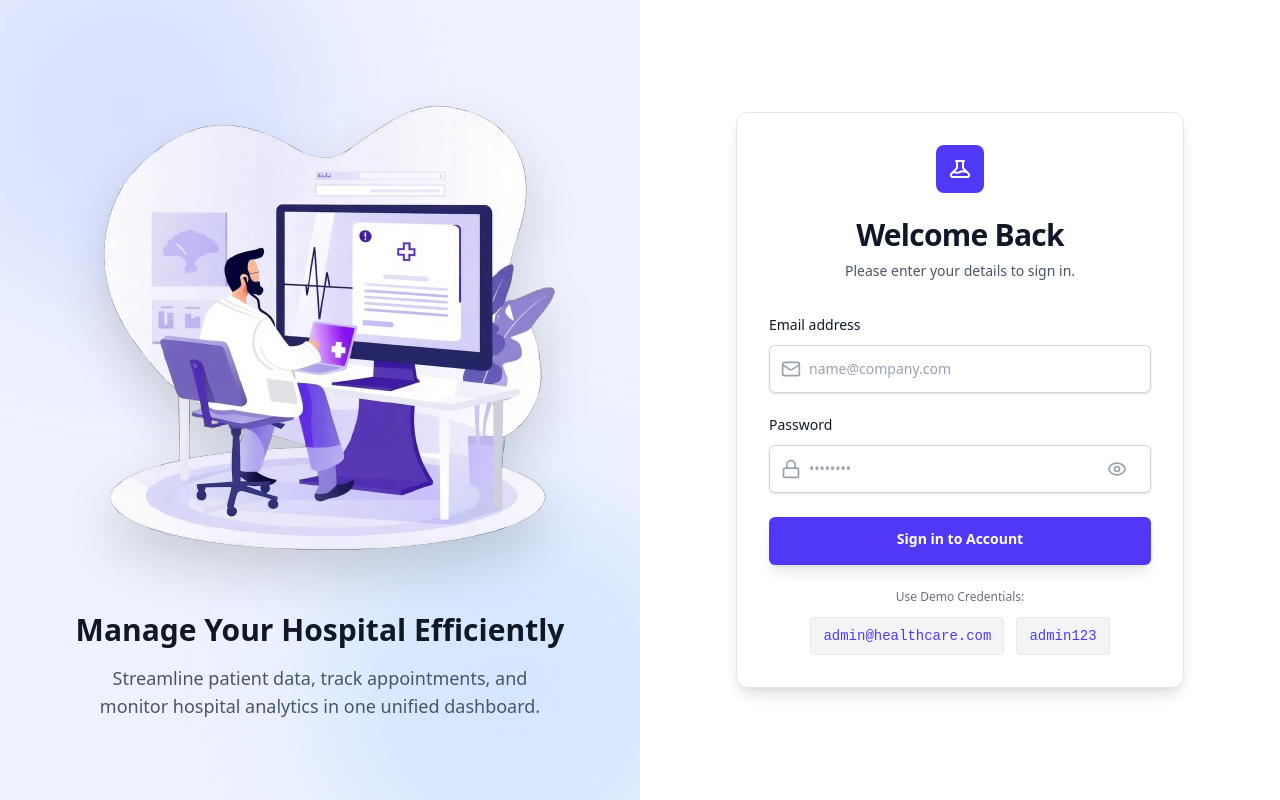
Test case: Login Page › Form Submission › prevents submission with invalid email
The width and height of the screenshot is (1280, 800).
In the field labelled "Email address": (960, 369) [769, 345, 1151, 393], type "invalid-email"
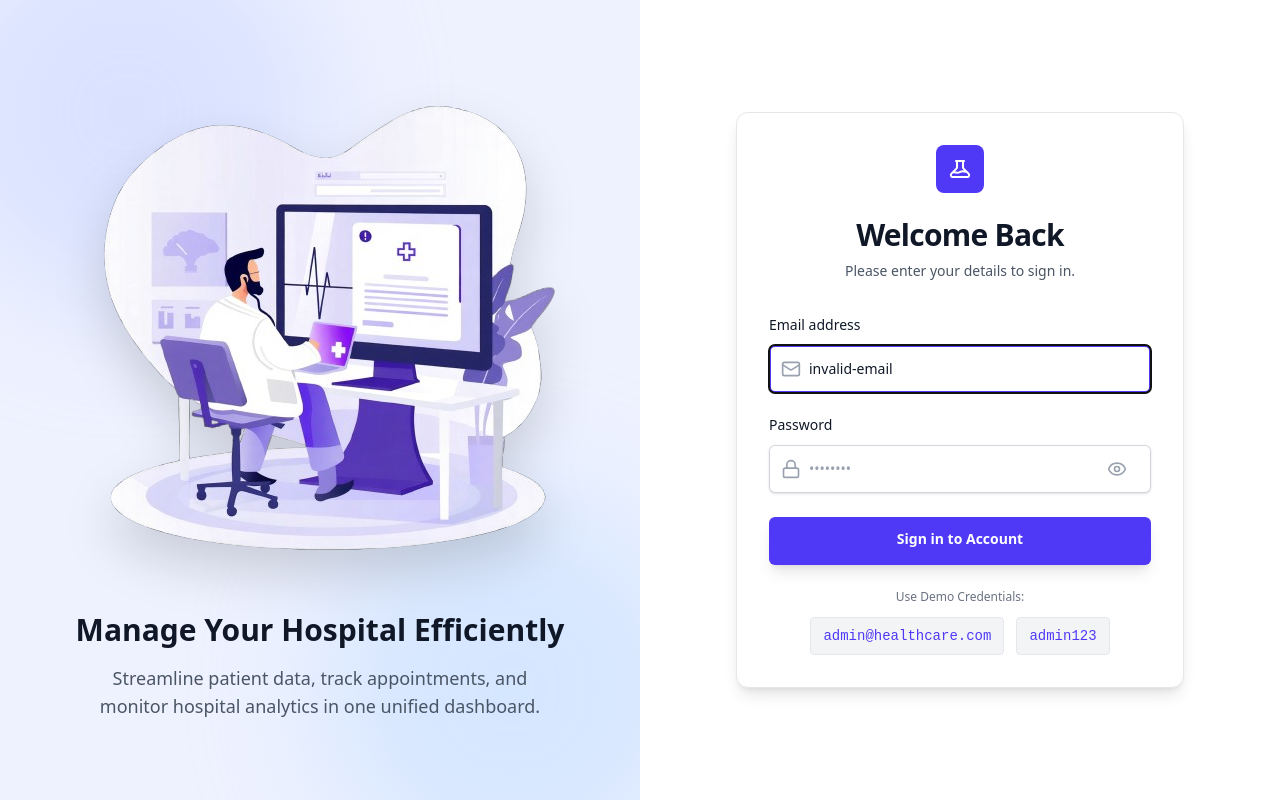
Click the button "Sign in to Account": (960, 541) [769, 517, 1151, 565]
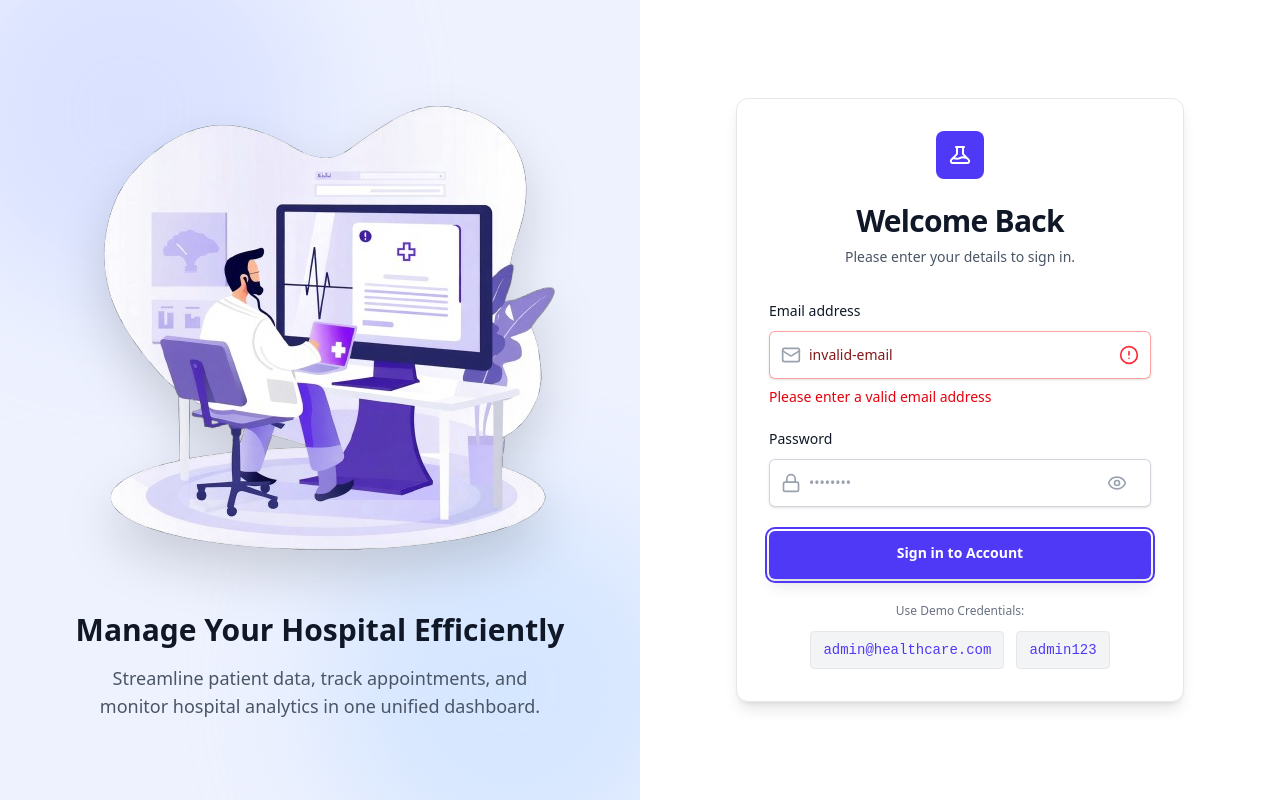
Expected: the text "Please enter a valid email address" is shown, [769, 387, 992, 406]
